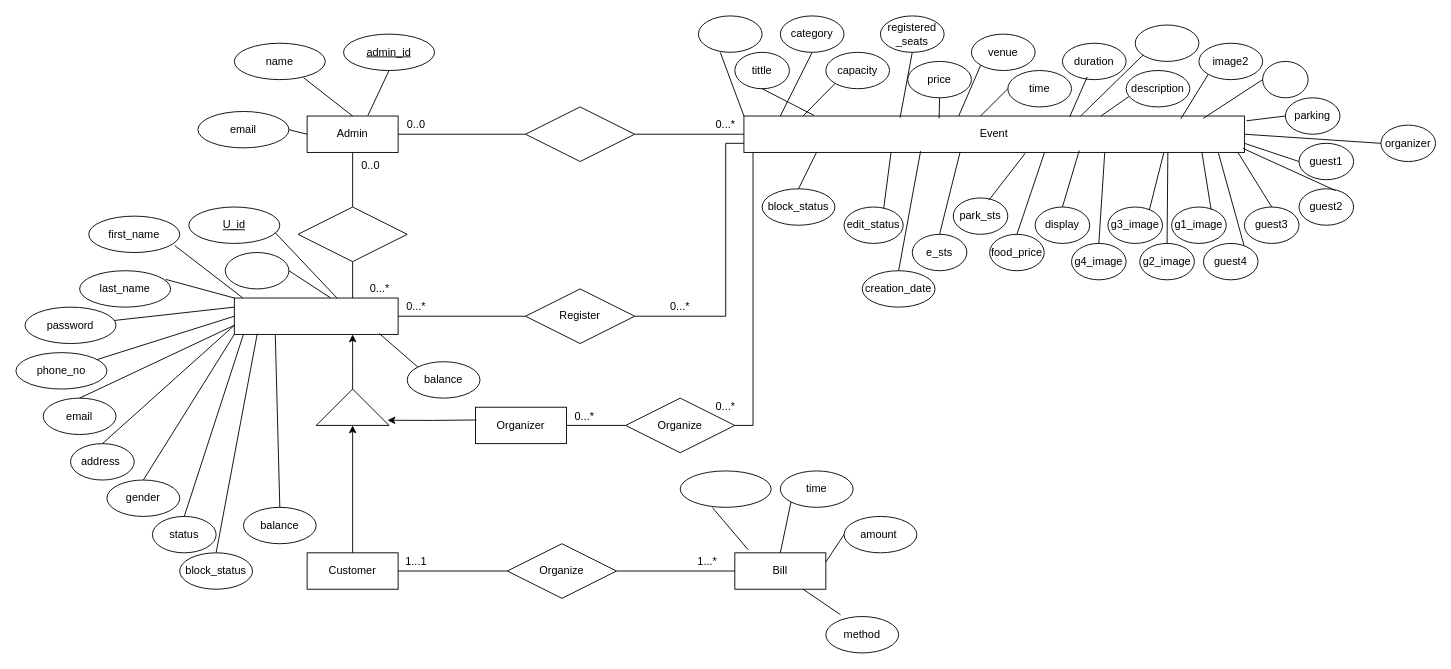
This 1451x669 diagram has some shape labels left out. The centre of each missing label's shape, as x and y in pixels:
"bill_id" goes at (725,488).
"Control" goes at (580,134).
"e_id" goes at (730,33).
"food" goes at (1285,79).
"image1" goes at (1166,42).
"IS A" goes at (352,406).
"Restrict" goes at (352,234).
"User" goes at (315,315).
"username" goes at (256,270).
